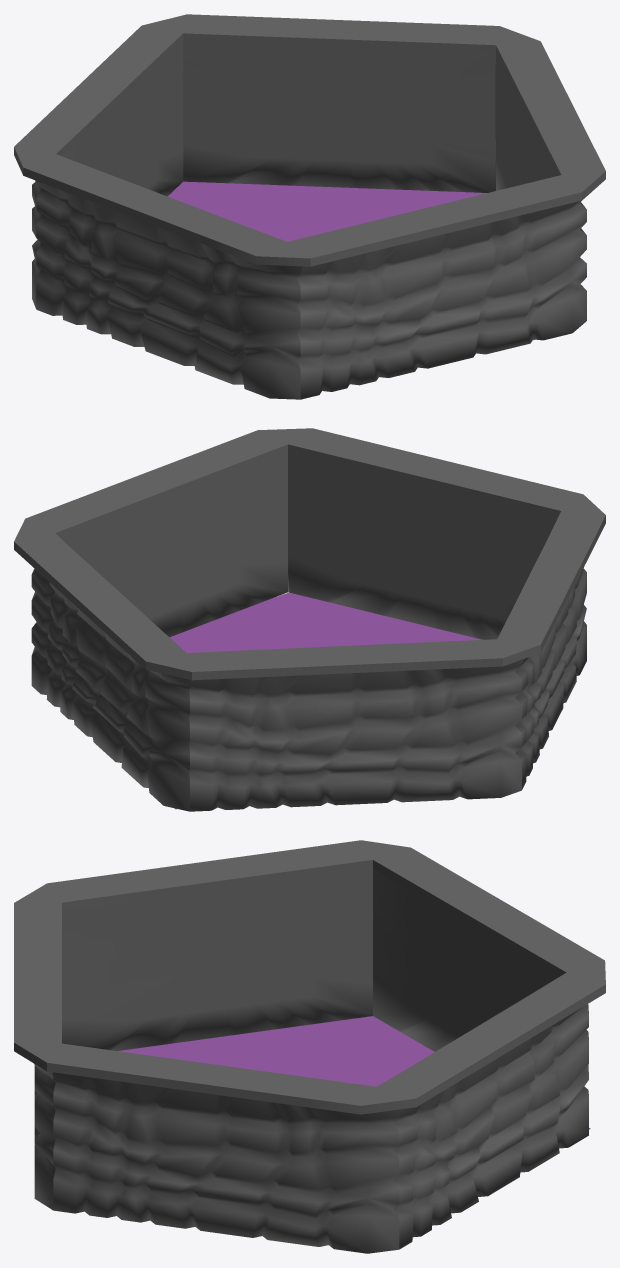
Rendered from Firepit_Model.fbx.
3 views of the same model, one above another, from view 1: azimuth 30°, elevation 25°; view 2: azimuth 150°, elevation 25°; view 3: azimuth 270°, elevation 25° (orthographic). The views are drawn at different scales.
Parts seen in each view (by area): view 1: Firepit1, polySurface1; view 2: Firepit1, polySurface1; view 3: Firepit1, polySurface1.
Boxes of the visible parts, x1,y1,x2,y2 form: Firepit1: [14, 14, 605, 399]; polySurface1: [168, 181, 534, 340]; Firepit1: [14, 428, 605, 811]; polySurface1: [170, 592, 482, 809]; Firepit1: [14, 840, 605, 1253]; polySurface1: [117, 1016, 590, 1129].
Bounding box in the file's own units: 3.77 × 1.03 × 3.55.
